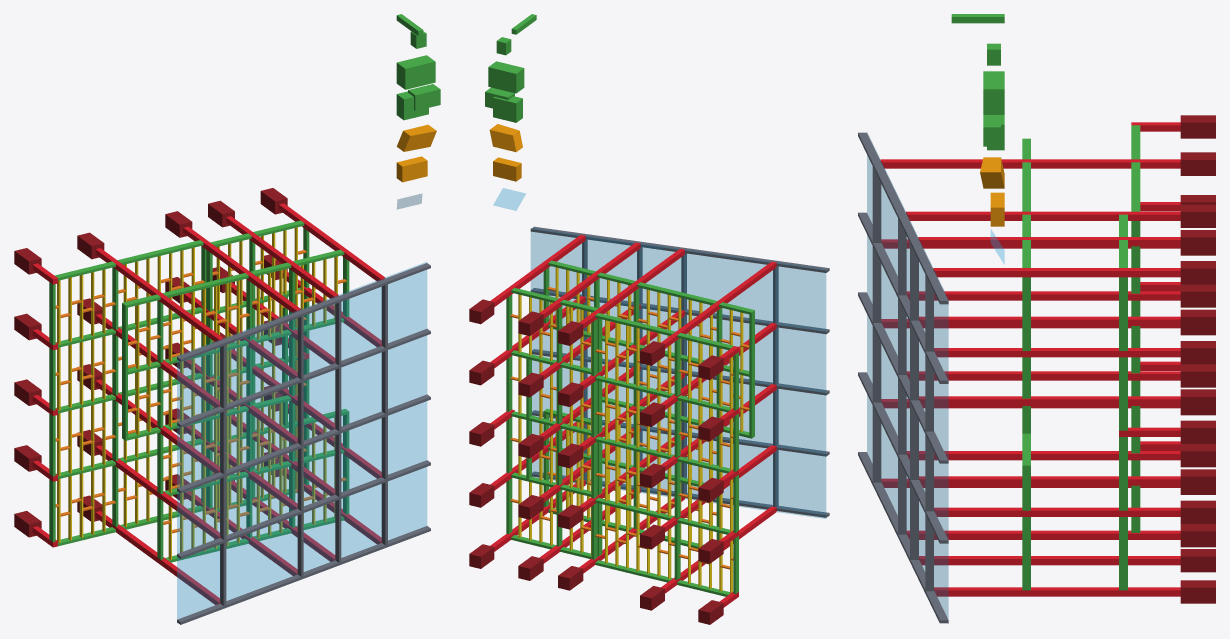
Rendered from tinker.obj.
3 views of the same model, side by side, from view 1: azimuth 30°, elevation 25°; view 2: azimuth 150°, elevation 25°; view 3: azimuth 270°, elevation 25° (orthographic). The views are drawn at different scales.
Parts seen in each view (by area): view 1: obj_424, obj_1, obj_20, obj_15, obj_420, obj_2, obj_421, obj_3, obj_11, obj_6, obj_4, obj_7 (+12 smaller); view 2: obj_424, obj_1, obj_420, obj_2, obj_421, obj_3, obj_4, obj_20, obj_15, obj_419, obj_7, obj_11 (+13 smaller); view 3: obj_424, obj_1, obj_2, obj_3, obj_4, obj_13, obj_18, obj_23, obj_9, obj_8, obj_17, obj_22 (+59 smaller).
Part boxes in pixels (x1,y1,x2,y2): obj_424: [177, 262, 426, 623]; obj_1: [95, 248, 223, 341]; obj_20: [95, 511, 220, 604]; obj_15: [95, 445, 220, 539]; obj_420: [396, 84, 440, 120]; obj_2: [183, 226, 300, 312]; obj_421: [396, 55, 435, 89]; obj_3: [226, 216, 338, 298]; obj_11: [95, 379, 220, 473]; obj_6: [95, 314, 220, 407]; obj_4: [279, 203, 384, 281]; obj_7: [183, 293, 297, 378]; obj_424: [531, 228, 825, 518]; obj_1: [661, 261, 776, 348]; obj_420: [485, 87, 522, 122]; obj_2: [579, 249, 684, 328]; obj_421: [488, 61, 524, 93]; obj_3: [539, 242, 640, 318]; obj_4: [490, 235, 585, 306]; obj_20: [661, 506, 776, 593]; obj_15: [661, 445, 776, 532]; obj_419: [489, 124, 522, 152]; obj_7: [579, 310, 684, 389]; obj_11: [661, 384, 776, 470]; obj_424: [867, 132, 948, 623]; obj_1: [880, 159, 1180, 168]; obj_2: [906, 211, 1180, 220]; obj_3: [918, 237, 1180, 246]; obj_4: [933, 268, 1180, 277]; obj_13: [919, 396, 1180, 405]; obj_18: [934, 507, 1180, 516]; obj_23: [934, 587, 1180, 596]; obj_9: [934, 348, 1180, 357]; obj_8: [919, 316, 1180, 325]; obj_17: [919, 476, 1180, 485]; obj_22: [919, 556, 1180, 565].
Size of the model in its own units: 132 by 192 by 102.
